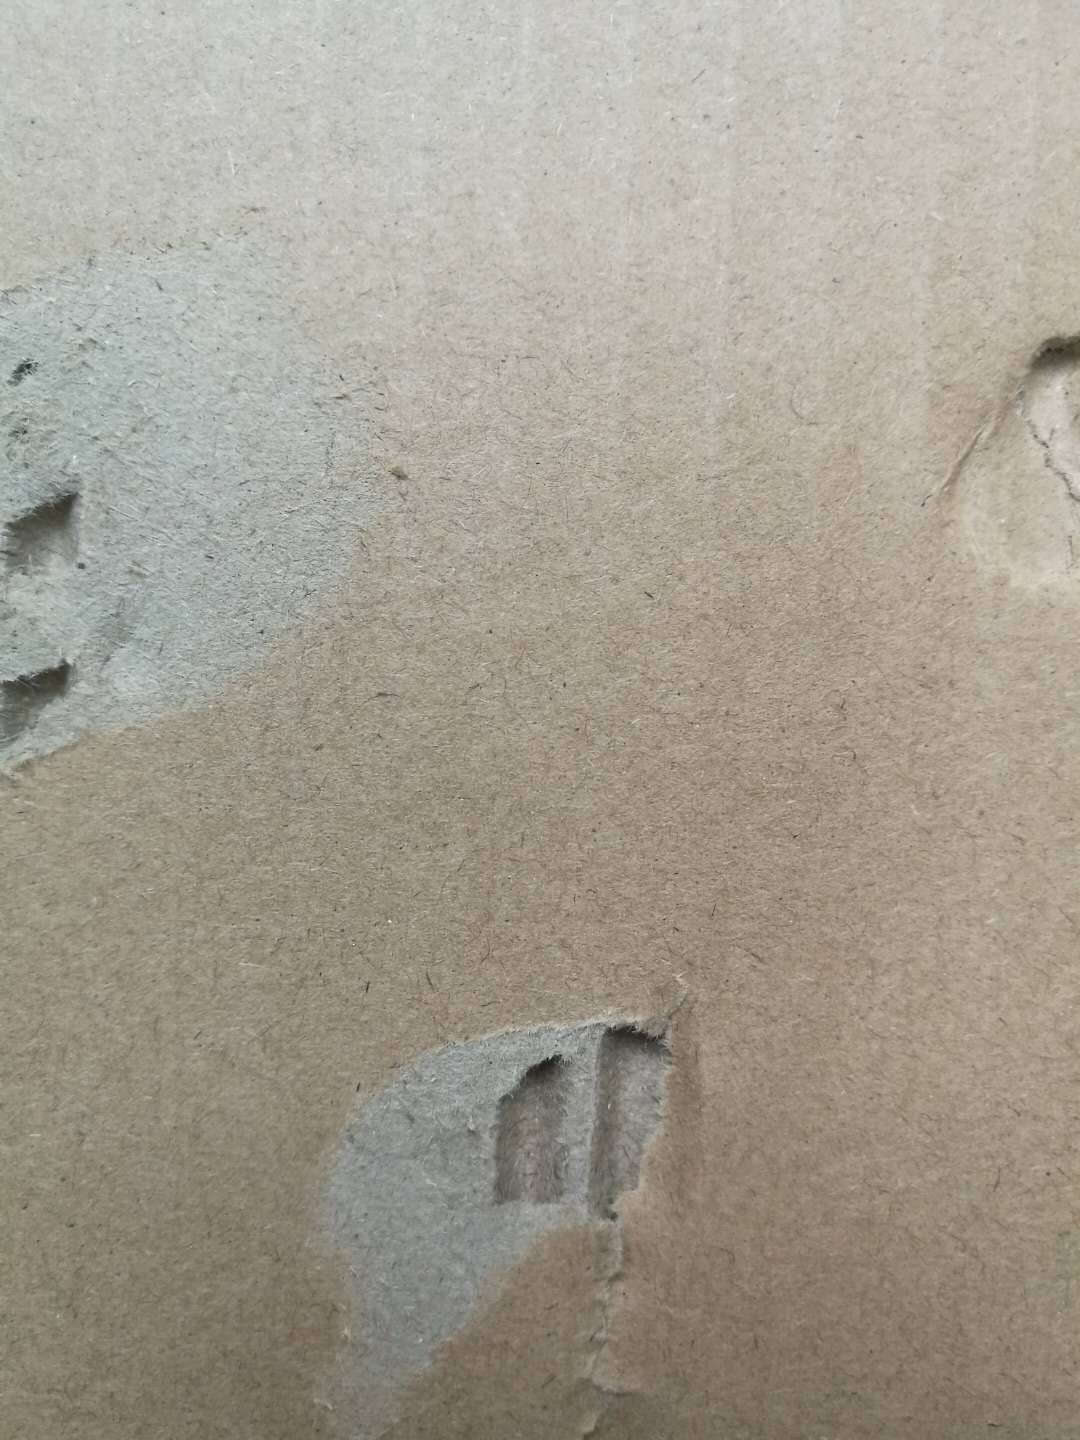defect: (1, 179, 427, 804), (288, 959, 719, 1440), (906, 304, 1080, 605)
